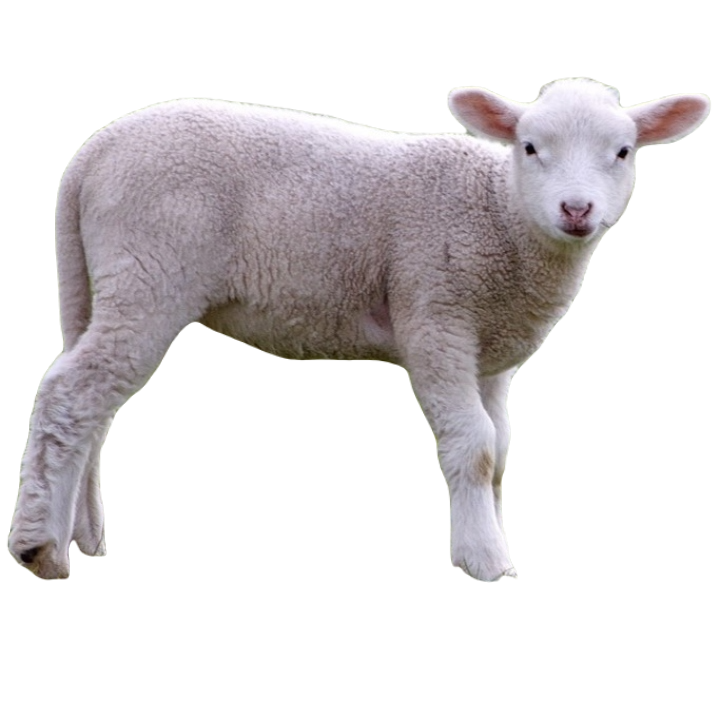Sheep: (1, 73, 712, 587)
